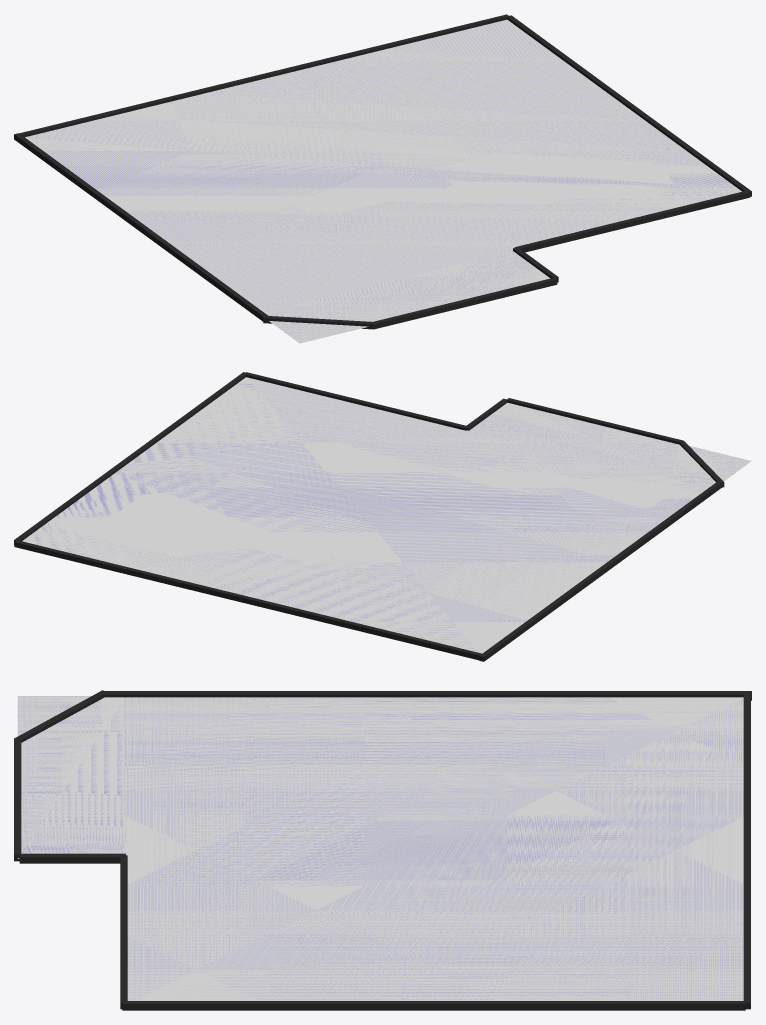
The model's file is lab_floor.dae.
The picture shows the model from 3 angles, top to bottom: view 1: azimuth 30°, elevation 25°; view 2: azimuth 150°, elevation 25°; view 3: azimuth 270°, elevation 25°; orthographic projection. The views are drawn at different scales.
Visible parts, largest first — view 1: SketchUp, SketchUp.001, Cube.002, Cube.006, Cube.003, Cube.001, Cube.005, Cube; view 2: SketchUp, SketchUp.001, Cube.002, Cube.006, Cube.001, Cube.003, Cube.005; view 3: SketchUp, SketchUp.001, Cube.001, Cube.006, Cube.002, Cube.003, Cube.004, Cube.005, Cube.
Boxes of the visible parts, bbox=[...] form: SketchUp: bbox=[25, 19, 741, 312]; SketchUp.001: bbox=[264, 251, 550, 343]; Cube.002: bbox=[17, 14, 508, 137]; Cube.006: bbox=[14, 133, 268, 321]; Cube.003: bbox=[514, 190, 750, 252]; Cube.001: bbox=[507, 15, 751, 196]; Cube.005: bbox=[371, 278, 557, 329]; Cube: bbox=[263, 315, 372, 329]; SketchUp: bbox=[22, 377, 707, 653]; SketchUp.001: bbox=[470, 402, 751, 488]; Cube.002: bbox=[14, 540, 481, 660]; Cube.006: bbox=[479, 481, 721, 661]; Cube.001: bbox=[14, 372, 246, 544]; Cube.003: bbox=[244, 372, 466, 430]; Cube.005: bbox=[507, 398, 683, 444]; SketchUp: bbox=[124, 697, 743, 1000]; SketchUp.001: bbox=[17, 696, 125, 858]; Cube.001: bbox=[122, 1001, 745, 1010]; Cube.006: bbox=[101, 691, 751, 700]; Cube.002: bbox=[743, 692, 750, 1009]; Cube.003: bbox=[120, 855, 127, 1009]; Cube.004: bbox=[19, 853, 125, 863]; Cube.005: bbox=[14, 738, 21, 861]; Cube: bbox=[15, 690, 107, 742].
Size of the model in its own units: 4.05 by 4.03 by 0.04.
